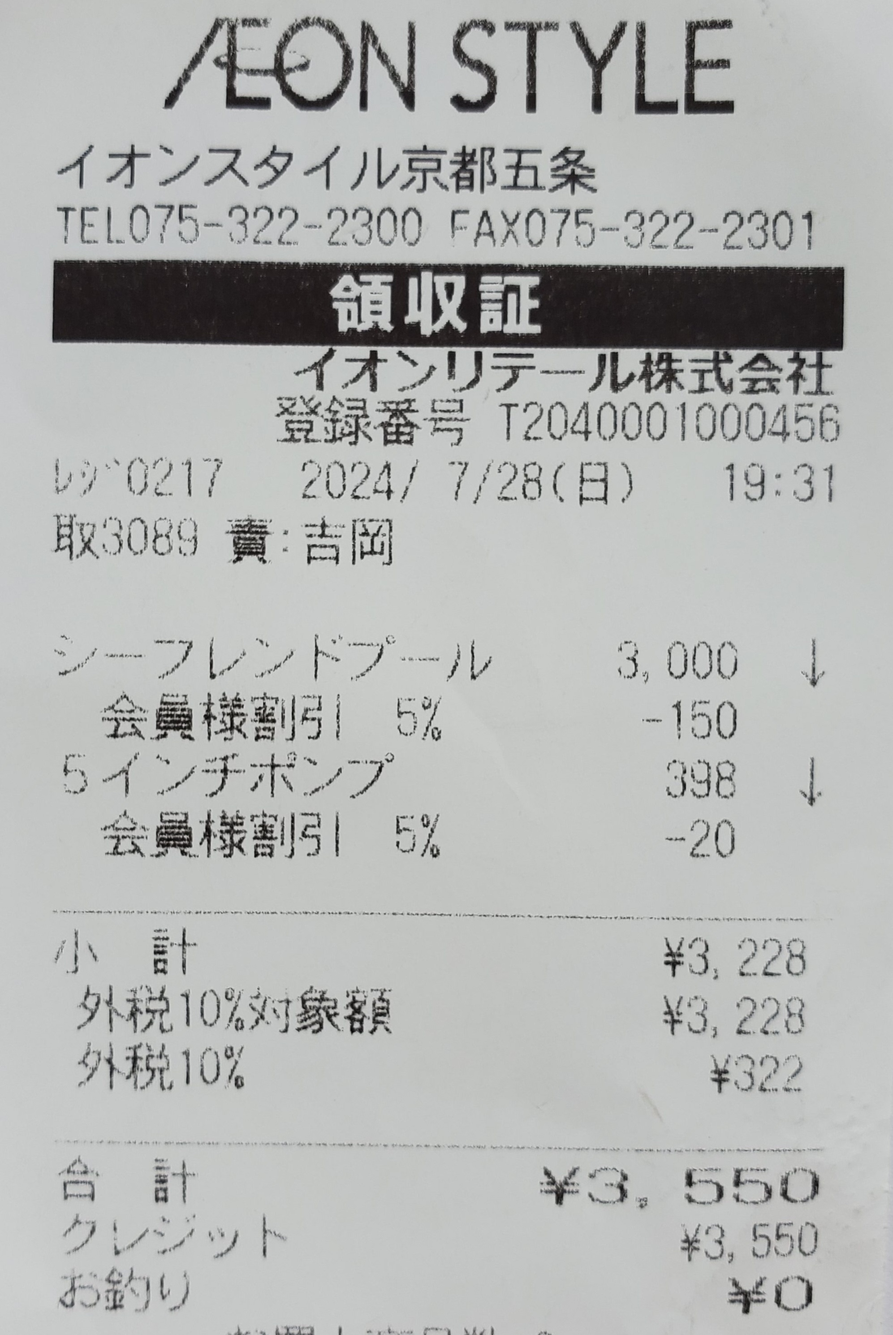Date: (285, 450, 548, 512)
Shopname: (128, 4, 774, 134)
Telnum: (124, 193, 433, 255)
Totalpay: (50, 1147, 845, 1218)
